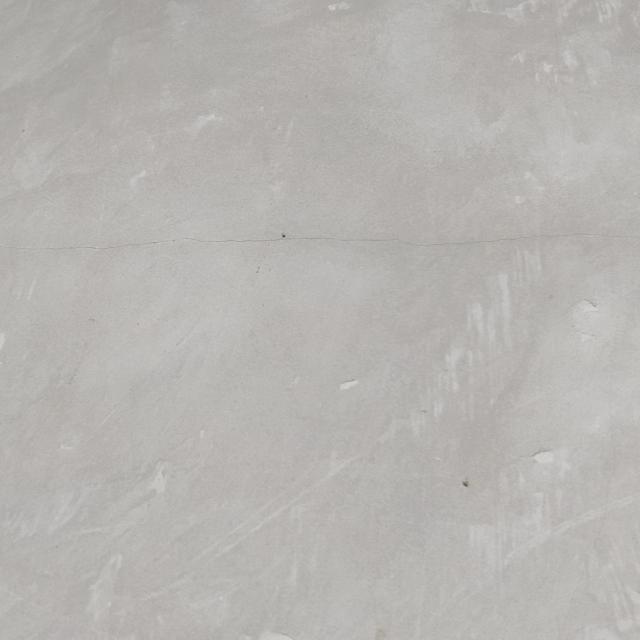Crack: (1, 231, 637, 255)
